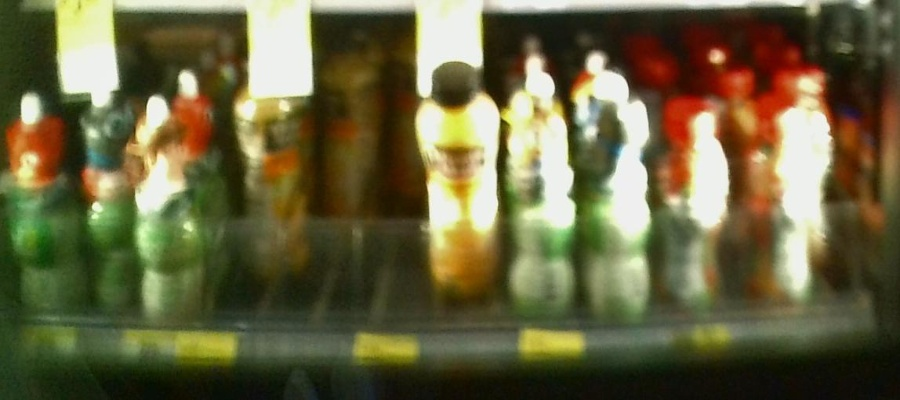bottle: (502, 69, 578, 315), (424, 50, 500, 294), (231, 54, 310, 275), (579, 77, 651, 319), (2, 88, 76, 318), (653, 95, 728, 317), (744, 93, 818, 308), (135, 95, 203, 321), (77, 81, 133, 319), (317, 39, 383, 221), (386, 29, 423, 207)
